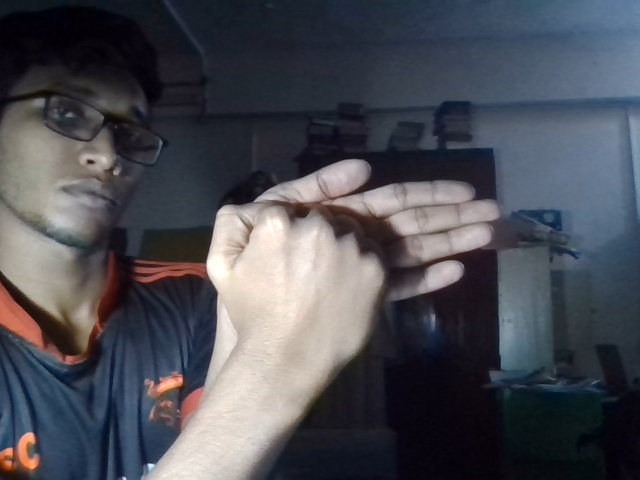b: (207, 155, 507, 338)
